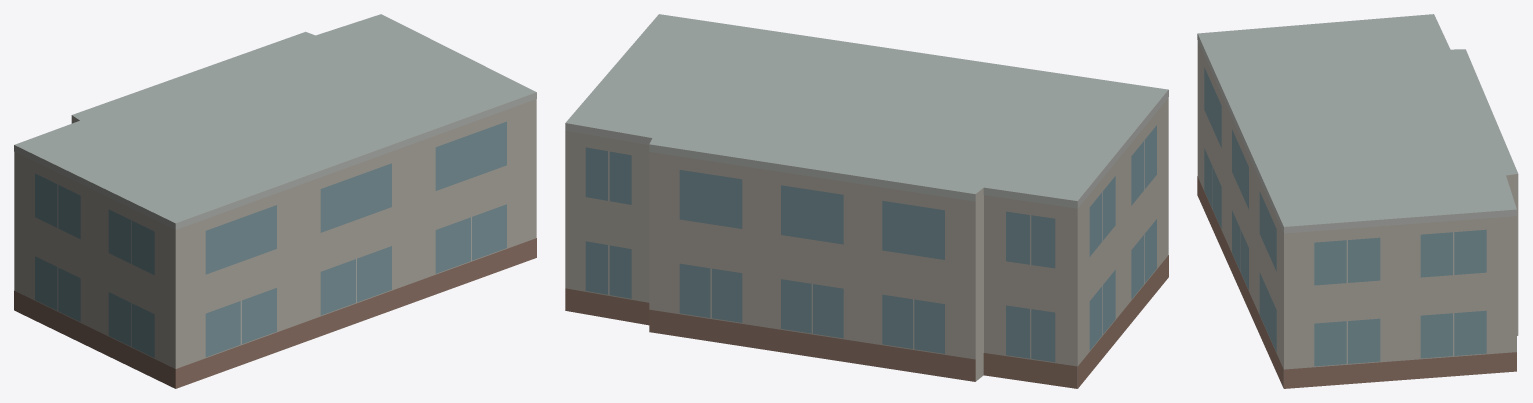
File: survey-upis-32612133.glb
3 views of the same model, side by side, from view 1: azimuth 30°, elevation 25°; view 2: azimuth 150°, elevation 25°; view 3: azimuth 270°, elevation 25° (orthographic). The views are drawn at different scales.
Visible parts, largest first — view 1: survey-upis-32612133.tmp; view 2: survey-upis-32612133.tmp; view 3: survey-upis-32612133.tmp.
Boxes of the visible parts, x1,y1,x2,y2 form: survey-upis-32612133.tmp: [14, 14, 536, 388]; survey-upis-32612133.tmp: [565, 14, 1168, 388]; survey-upis-32612133.tmp: [1197, 14, 1518, 388].
Size of the model in its own units: 17.21 by 6.1 by 10.96.
